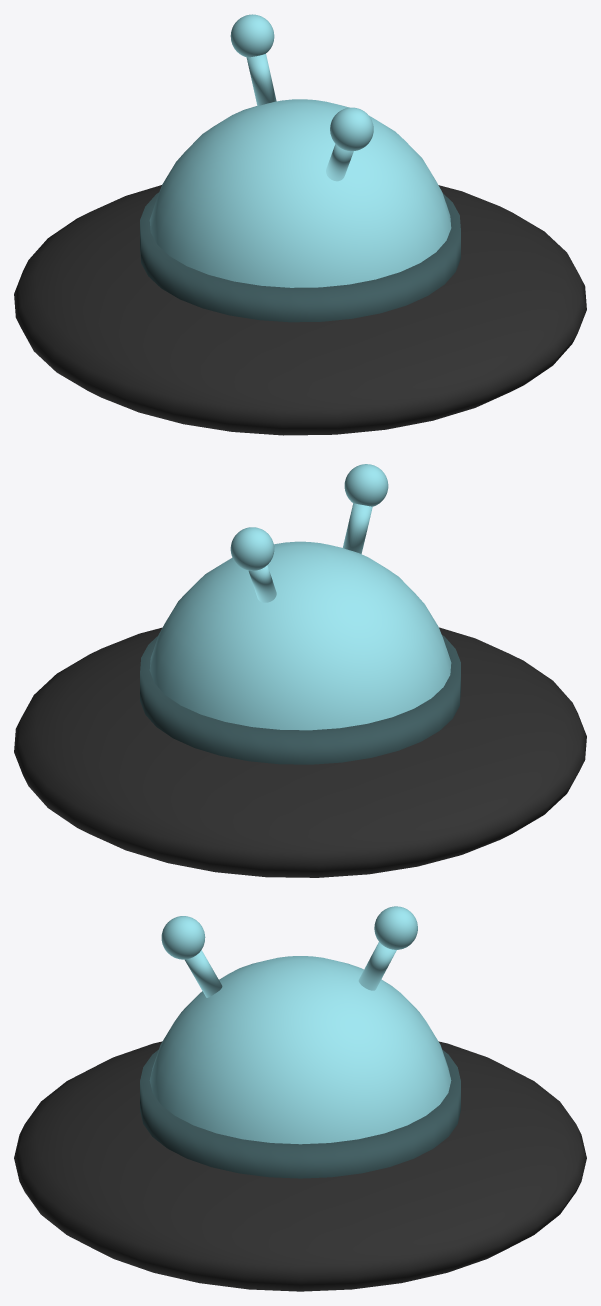
Rendered from Spaceship.fbx.
3 renders of one model, top to bottom at view 1: azimuth 30°, elevation 25°; view 2: azimuth 150°, elevation 25°; view 3: azimuth 270°, elevation 25°, orthographic.
Visible parts, largest first — view 1: Sphere; view 2: Sphere; view 3: Sphere.
Boxes of the visible parts, x1,y1,x2,y2 form: Sphere: (14,14,586,435); Sphere: (14,464,586,877); Sphere: (14,906,586,1291).
Bounding box in the file's own units: 399 × 262 × 399.
